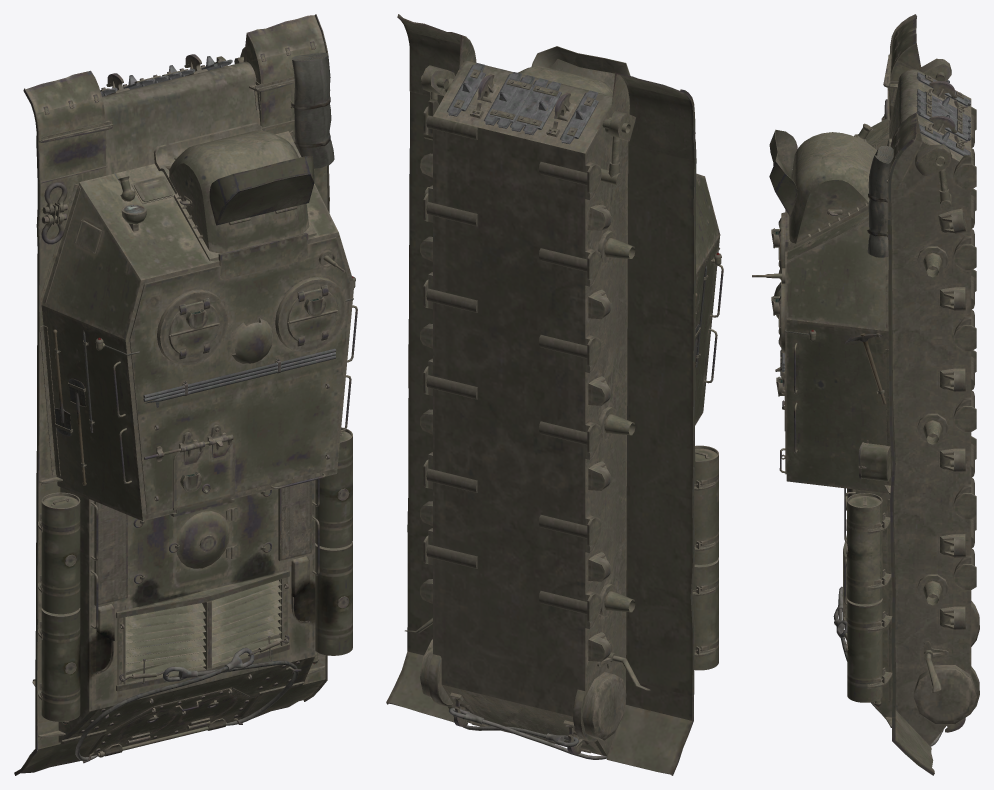
Rendered from Hull.glb.
3 renders of one model, left to right at view 1: azimuth 30°, elevation 25°; view 2: azimuth 150°, elevation 25°; view 3: azimuth 270°, elevation 25°, orthographic. The views are drawn at different scales.
Parts seen in each view (by area): view 1: set_0_group_0; view 2: set_0_group_0; view 3: set_0_group_0.
Part boxes in pixels (x1=…): set_0_group_0: x1=14, y1=14, x2=357, y2=775; set_0_group_0: x1=386, y1=14, x2=723, y2=775; set_0_group_0: x1=752, y1=14, x2=979, y2=775.
Size of the model in its own units: 3.17 by 6.91 by 2.22.
1 material, 1 textured.
